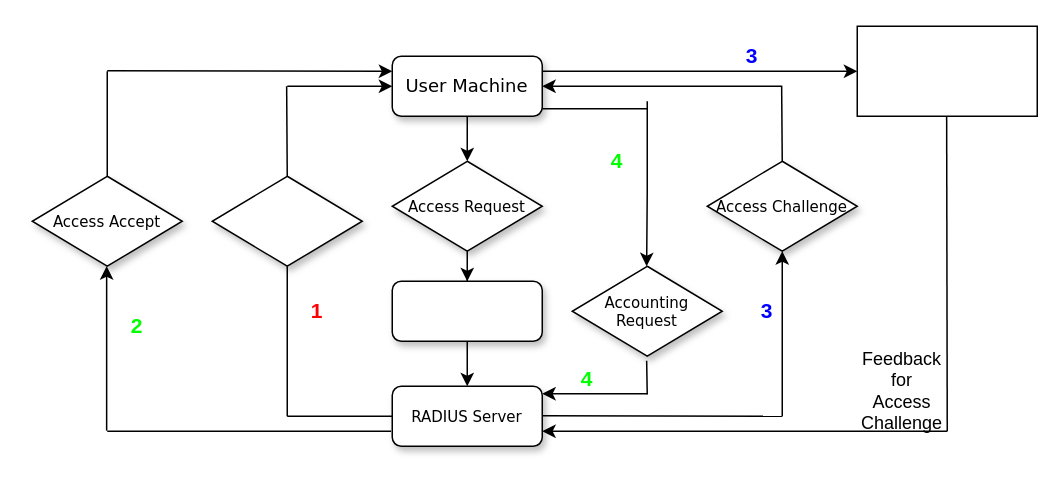
Some shapes in this 1064 by 483 pixel diagram are drawn without their labels. Here are the shapes that lost their labels. From the top down, the centre of each, then its label:
At point 946,70: "Provide secondary password, PIN, token".
At point 288,223: "Access Reject".
At point 468,313: "NAS (Network Access Server)".
